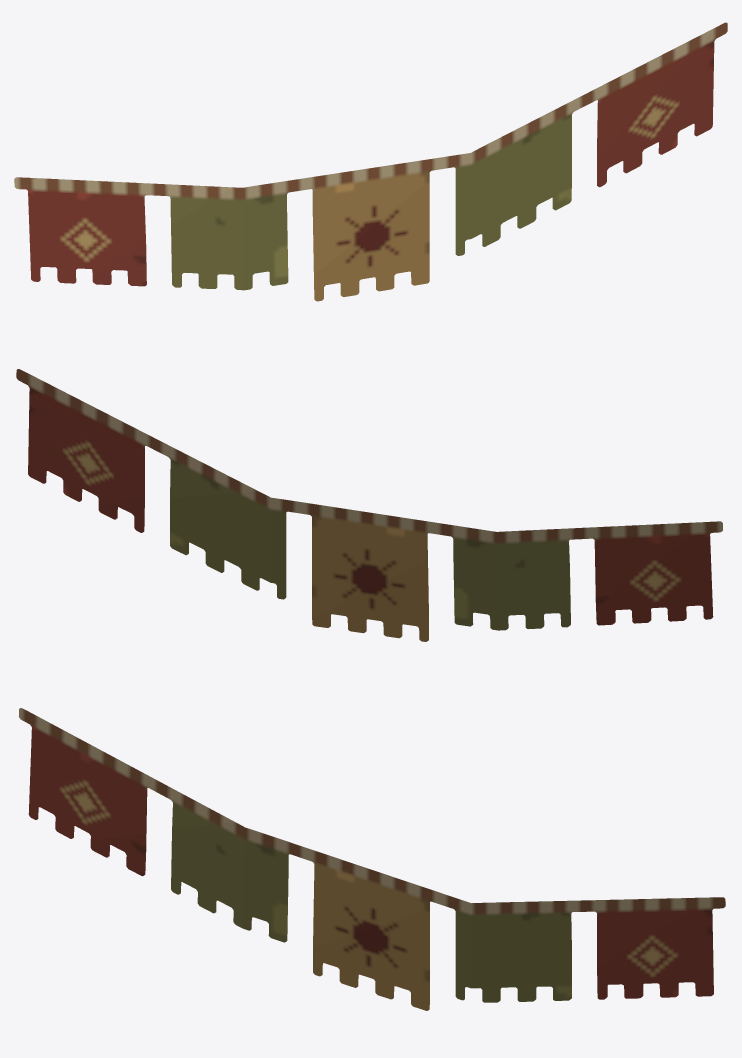
File: SM_Garland_Long.fbx
3 renders of one model, top to bottom at view 1: azimuth 30°, elevation 25°; view 2: azimuth 150°, elevation 25°; view 3: azimuth 330°, elevation 25°, orthographic.
Visible parts, largest first — view 1: Garland_Long_Visual; view 2: Garland_Long_Visual; view 3: Garland_Long_Visual.
Part boxes in pixels (box(x1,y1,x2,y2)): Garland_Long_Visual: box(14, 22, 727, 301); Garland_Long_Visual: box(16, 369, 722, 641); Garland_Long_Visual: box(19, 708, 725, 1010).
Size of the model in its own units: 1.5 by 0.4755 by 0.0315.
